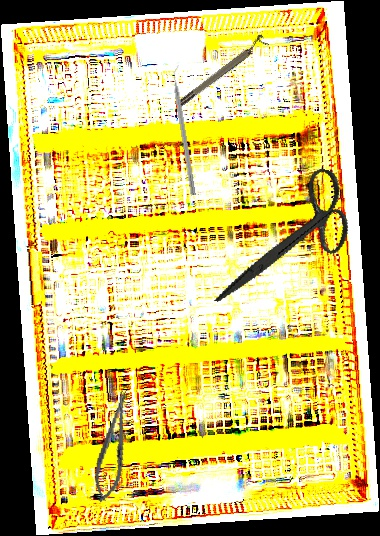Chopper: (170, 64, 203, 196)
Fixation Ring: (173, 33, 270, 109)
Iris Scissors: (213, 149, 365, 333)
Needle Holder: (89, 387, 138, 506)
